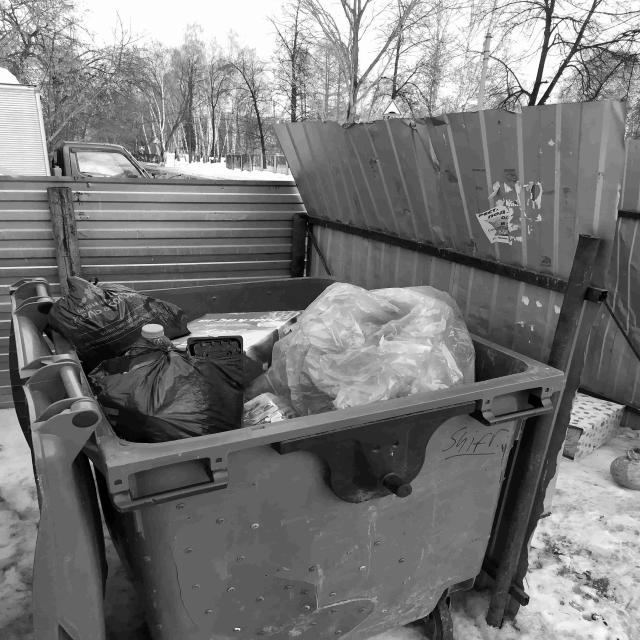bin: (0, 201, 577, 640)
trash: (48, 258, 496, 452)
